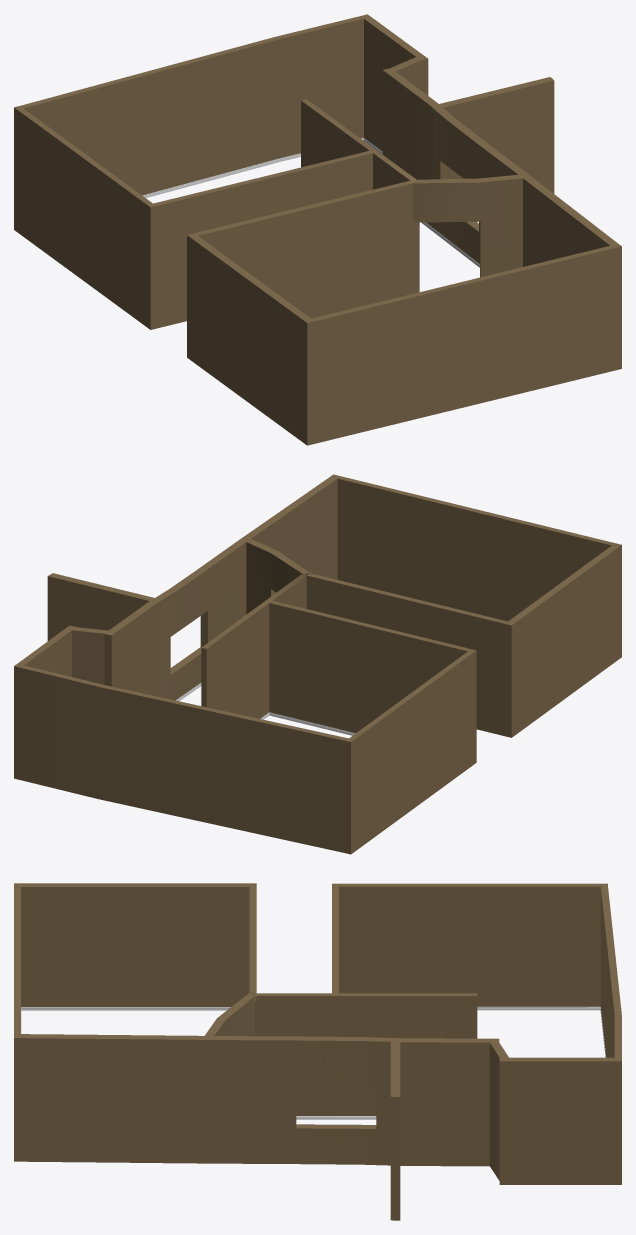
Rendered from WallWithWindow.fbx.
3 views of the same model, one above another, from view 1: azimuth 30°, elevation 25°; view 2: azimuth 150°, elevation 25°; view 3: azimuth 270°, elevation 25° (orthographic). The views are drawn at different scales.
Visible parts, largest first — view 1: Walls; view 2: Walls; view 3: Walls.
Part boxes in pixels (box(x1,y1,x2,y2)): Walls: box(14, 14, 621, 445); Walls: box(14, 474, 621, 854); Walls: box(14, 883, 621, 1220).
Bounding box in the file's own units: 1112 × 300 × 1336.
